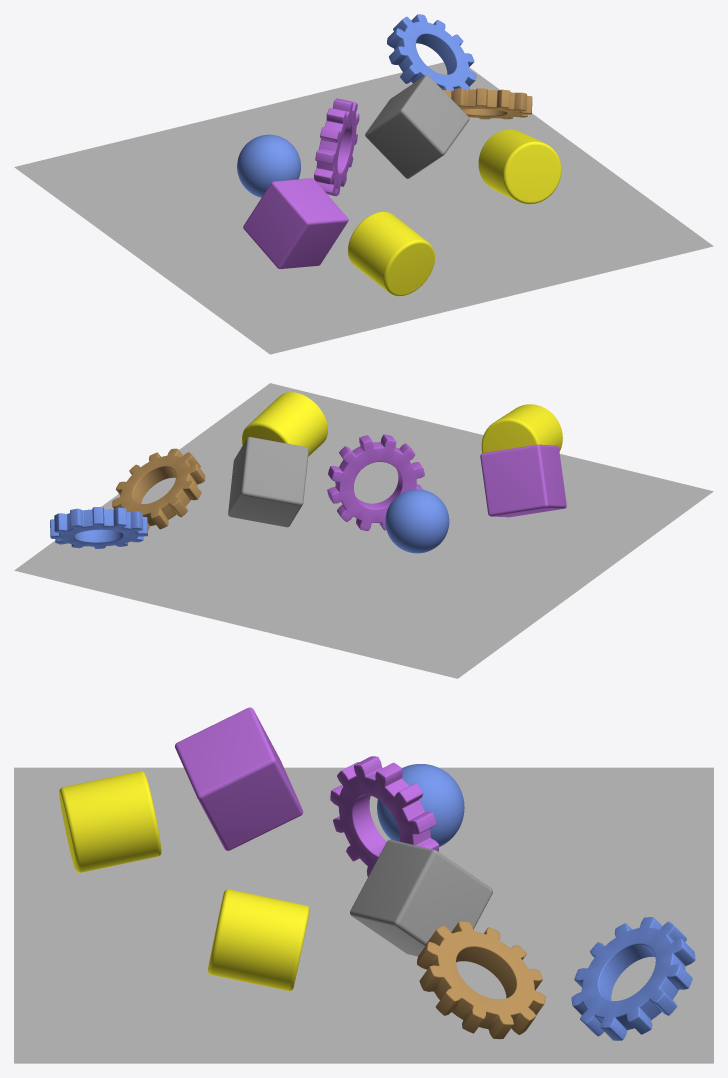
The picture shows the model from 3 angles, top to bottom: view 1: azimuth 30°, elevation 25°; view 2: azimuth 150°, elevation 25°; view 3: azimuth 270°, elevation 25°; orthographic projection. The views are drawn at different scales.
Parts seen in each view (by area): view 1: Cube, FileBasedObject.006, FileBasedObject.001, FileBasedObject, FileBasedObject.002, FileBasedObject.005, FileBasedObject.007, FileBasedObject.004, FileBasedObject.003; view 2: Cube, FileBasedObject.001, FileBasedObject.006, FileBasedObject.007, FileBasedObject.003, FileBasedObject.005, FileBasedObject.002, FileBasedObject.004, FileBasedObject; view 3: Cube, FileBasedObject.006, FileBasedObject.001, FileBasedObject.005, FileBasedObject.003, FileBasedObject, FileBasedObject.002, FileBasedObject.007, FileBasedObject.004.
Boxes of the visible parts, x1,y1,x2,y2 form: Cube: (14,62,713,354); FileBasedObject.006: (243,178,348,268); FileBasedObject.001: (365,75,469,178); FileBasedObject: (348,211,434,296); FileBasedObject.002: (478,129,561,204); FileBasedObject.005: (387,14,476,90); FileBasedObject.007: (314,98,359,196); FileBasedObject.004: (237,134,300,197); FileBasedObject.003: (443,88,532,119); Cube: (14,383,713,678); FileBasedObject.001: (228,437,308,527); FileBasedObject.006: (480,444,566,517); FileBasedObject.007: (327,434,424,530); FileBasedObject.003: (112,448,205,529); FileBasedObject.005: (50,507,147,548); FileBasedObject.002: (242,392,327,456); FileBasedObject.004: (385,489,449,553); FileBasedObject: (481,404,562,453); Cube: (14,767,713,1063); FileBasedObject.006: (175,707,303,850); FileBasedObject.001: (350,839,492,956); FileBasedObject.005: (571,917,695,1040); FileBasedObject.003: (417,921,545,1039); FileBasedObject: (59,771,161,872); FileBasedObject.002: (208,889,309,990); FileBasedObject.007: (330,756,439,876); FileBasedObject.004: (377,764,464,846).
Size of the model in its own units: 8 by 1.77 by 8.
